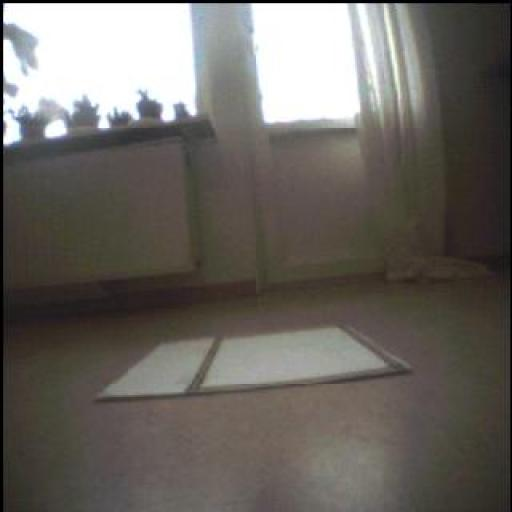Pad: (96, 318, 406, 401)
